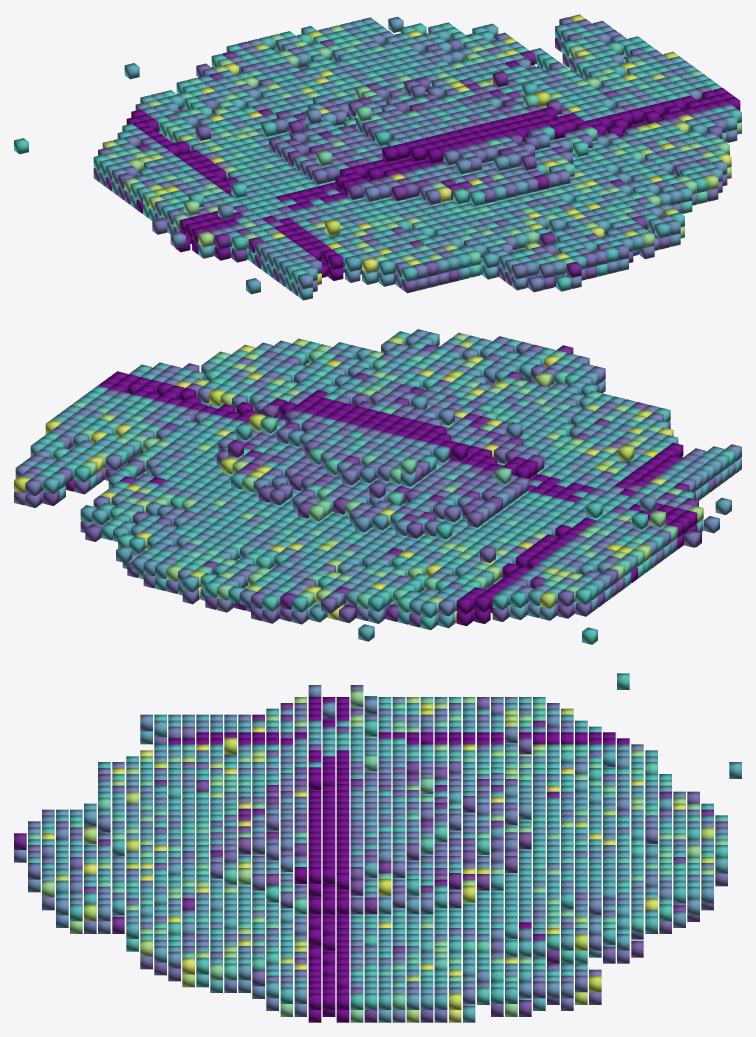
Rendered from system_mass_H.gltf.
3 views of the same model, one above another, from view 1: azimuth 30°, elevation 25°; view 2: azimuth 150°, elevation 25°; view 3: azimuth 270°, elevation 25° (orthographic). The views are drawn at different scales.
Visible parts, largest first — view 1: Renderer Node; view 2: Renderer Node; view 3: Renderer Node.
Part boxes in pixels (x1=…): Renderer Node: x1=14, y1=14, x2=741, y2=300; Renderer Node: x1=14, y1=329, x2=741, y2=644; Renderer Node: x1=14, y1=673, x2=741, y2=1022.
Size of the model in its own units: 70272 by 12672 by 66432.
